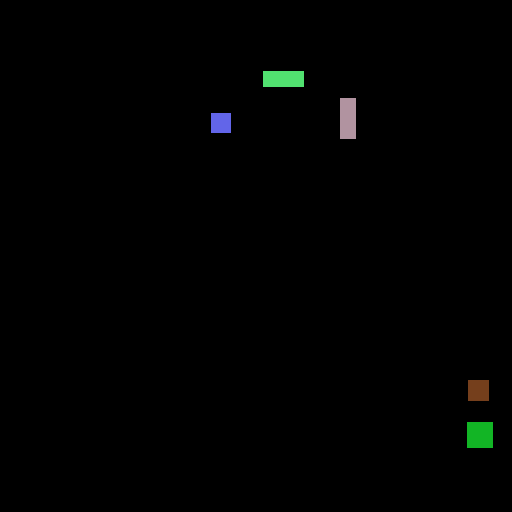side_rect: (256, 68, 311, 89)
square: (208, 108, 235, 134), (465, 376, 492, 402), (465, 420, 492, 446)
up_rect: (338, 94, 359, 144)
